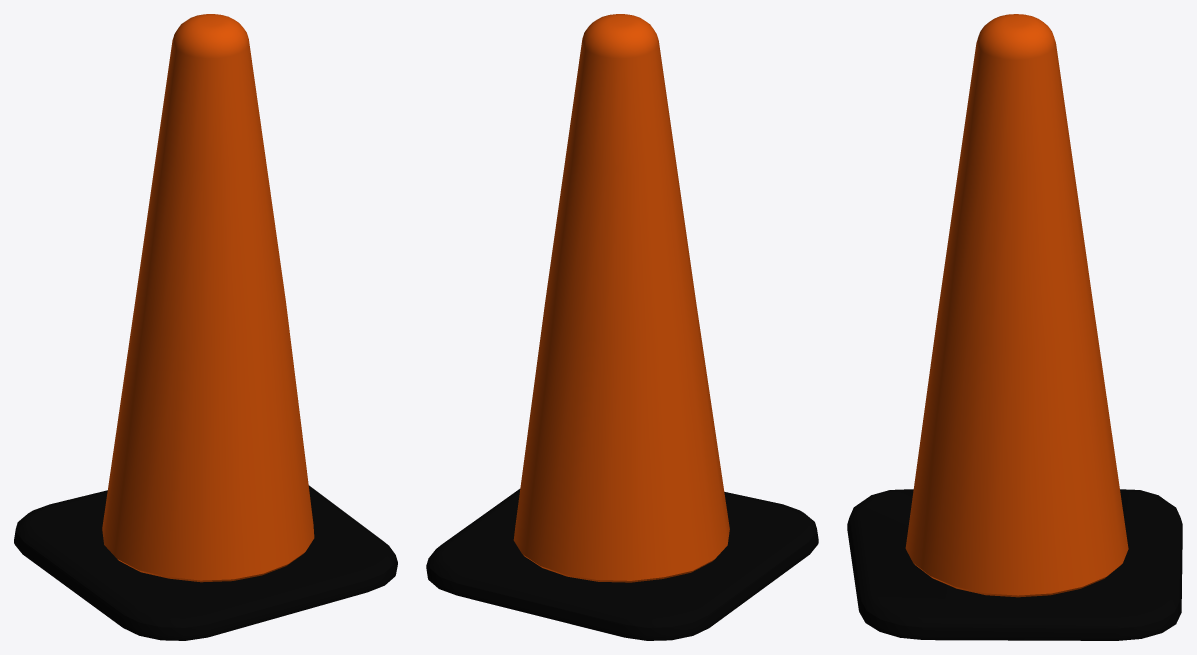
The model's file is kone.fbx.
The picture shows the model from 3 angles, left to right: view 1: azimuth 30°, elevation 25°; view 2: azimuth 150°, elevation 25°; view 3: azimuth 270°, elevation 25°; orthographic projection. The views are drawn at different scales.
Parts seen in each view (by area): view 1: kone; view 2: kone; view 3: kone.
Part boxes in pixels (x1,y1,x2,y2): kone: (14, 14, 397, 640); kone: (426, 14, 818, 640); kone: (847, 14, 1182, 640).
Bounding box in the file's own units: 0.1683 × 0.3126 × 0.1723.
